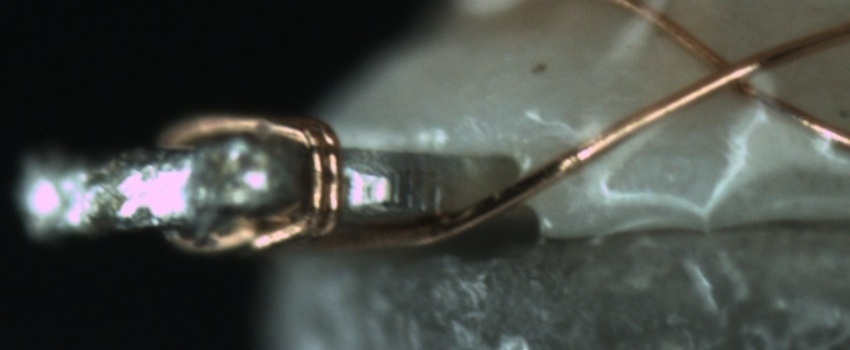CL: (681, 39, 780, 106)
TE: (159, 103, 353, 259)
